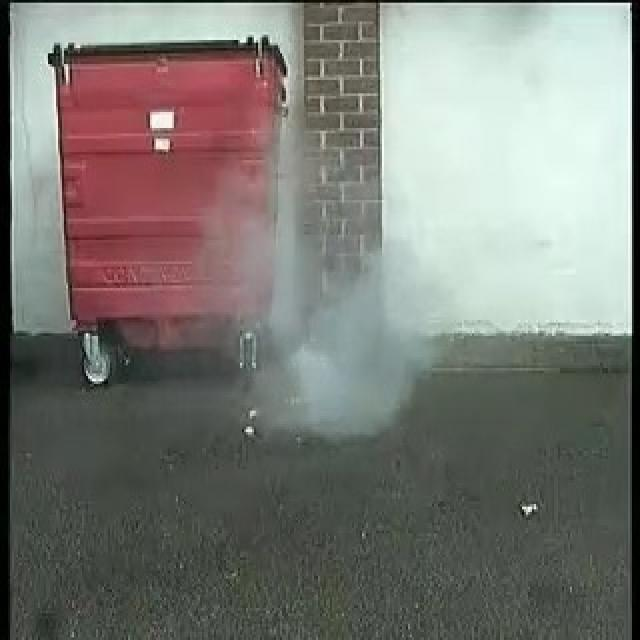smoke: (273, 253, 443, 430)
